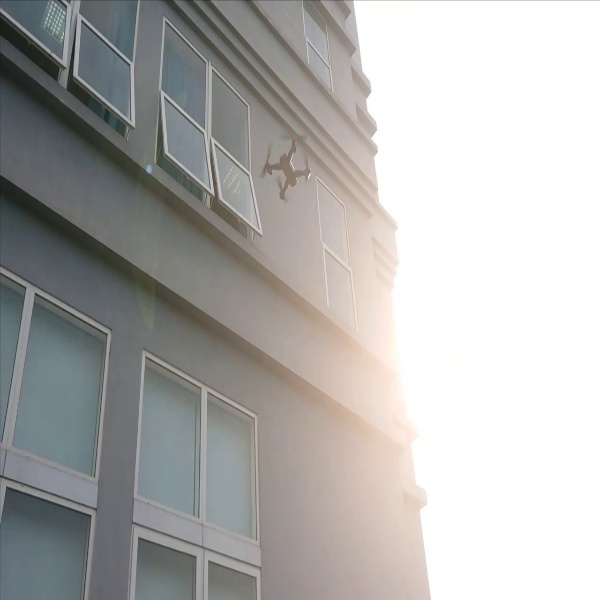drone: (249, 117, 319, 207)
